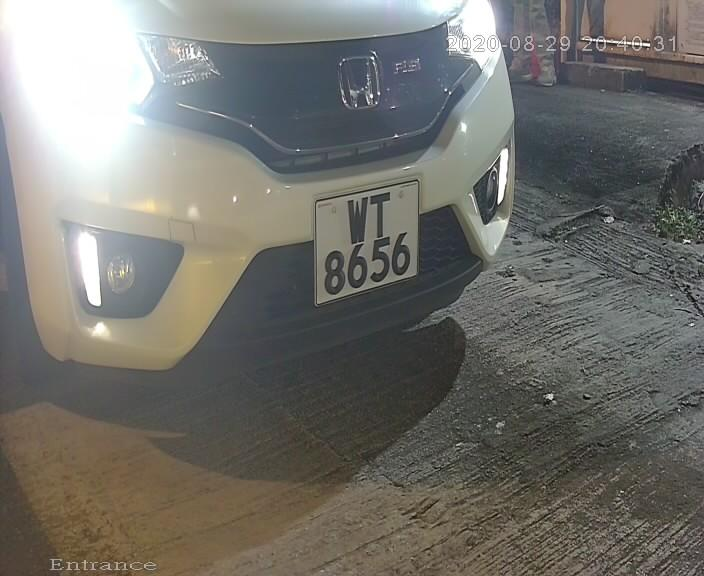License Plate: (302, 170, 425, 312)
